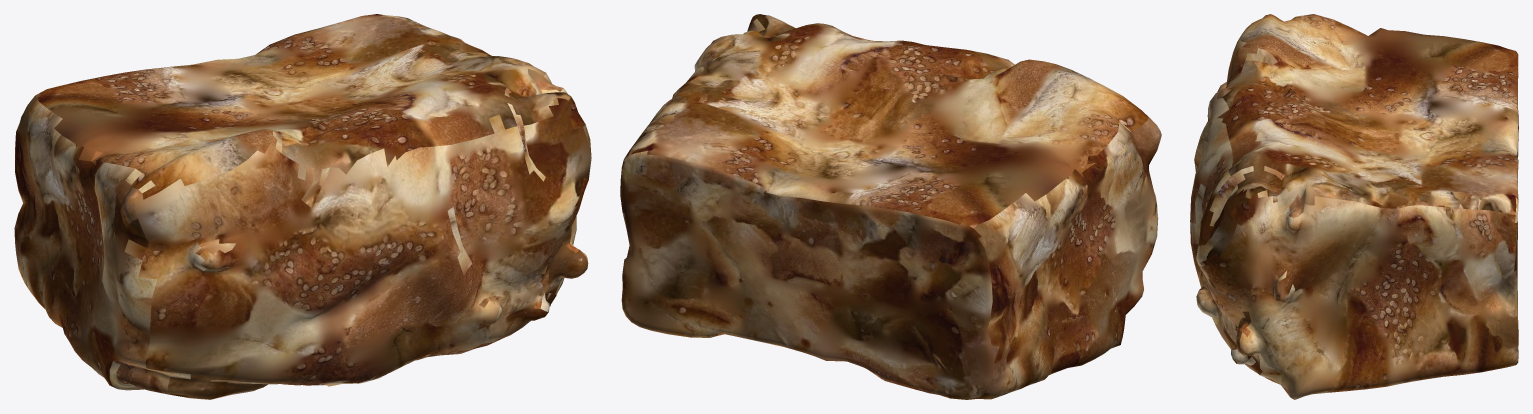
3 renders of one model, left to right at view 1: azimuth 30°, elevation 25°; view 2: azimuth 150°, elevation 25°; view 3: azimuth 270°, elevation 25°, orthographic. The views are drawn at different scales.
Size of the model in its own units: 1 by 0.5421 by 0.6982.
